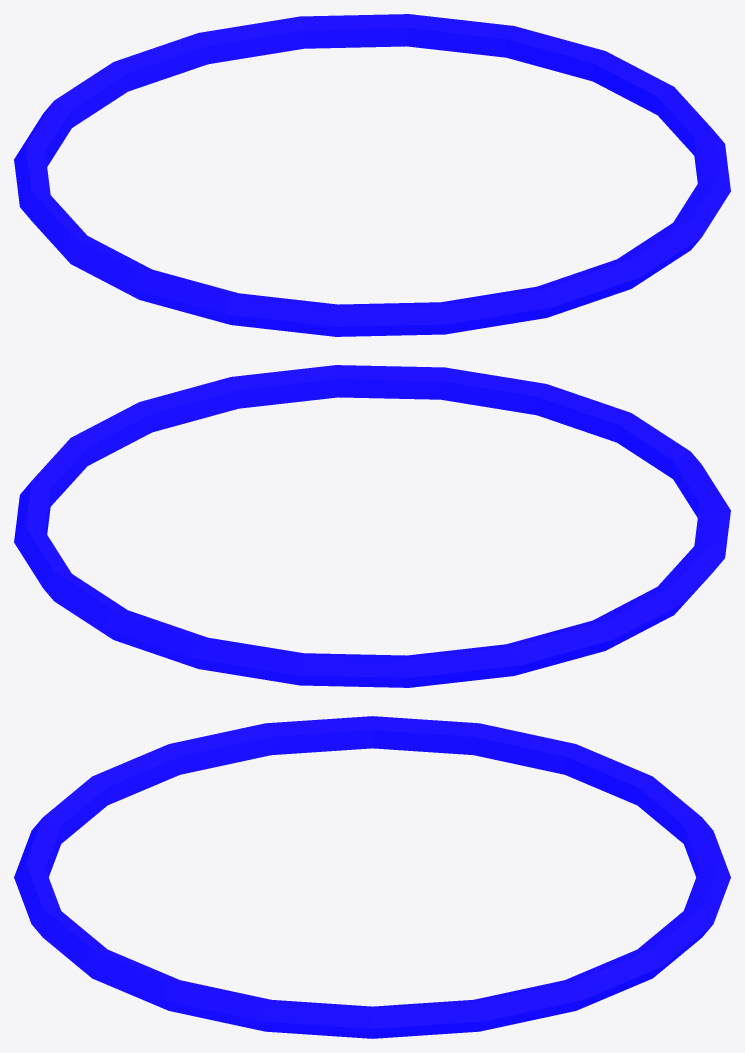
File: ring2.glb
The picture shows the model from 3 angles, top to bottom: view 1: azimuth 30°, elevation 25°; view 2: azimuth 150°, elevation 25°; view 3: azimuth 270°, elevation 25°; orthographic projection.
Visible parts, largest first — view 1: Torus.001; view 2: Torus.001; view 3: Torus.001.
Part boxes in pixels (<box>): Torus.001: <box>14,14,730,336</box>; Torus.001: <box>14,365,730,687</box>; Torus.001: <box>14,716,730,1038</box>.
Size of the model in its own units: 27.36 by 1.26 by 27.36.
